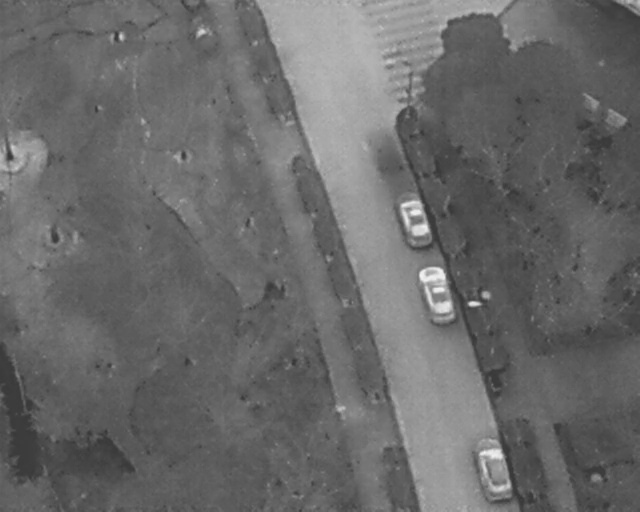Car: (471, 433, 517, 504), (414, 260, 461, 328), (391, 190, 437, 253)
